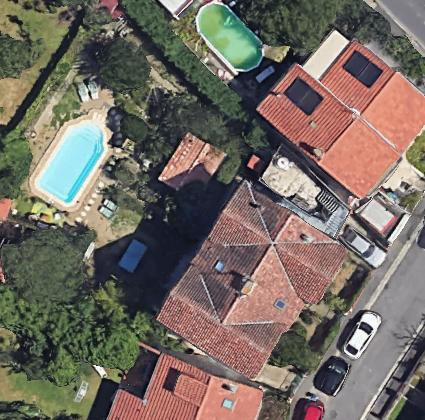maison: (149, 179, 351, 389), (253, 19, 425, 202), (106, 345, 262, 419)
